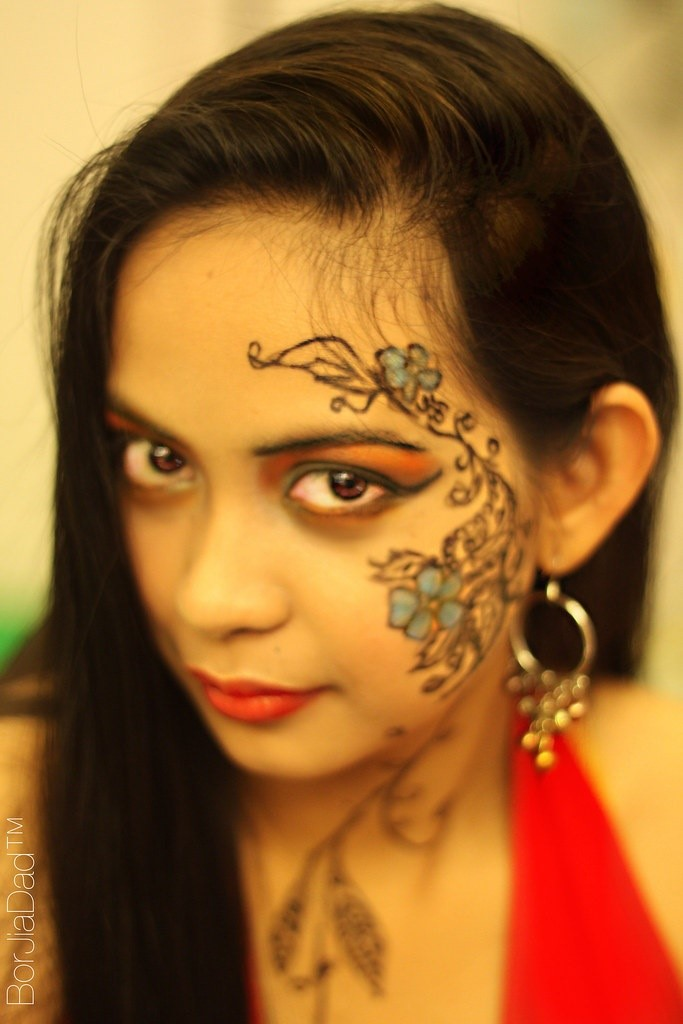face_no_mask: (72, 67, 683, 798)
